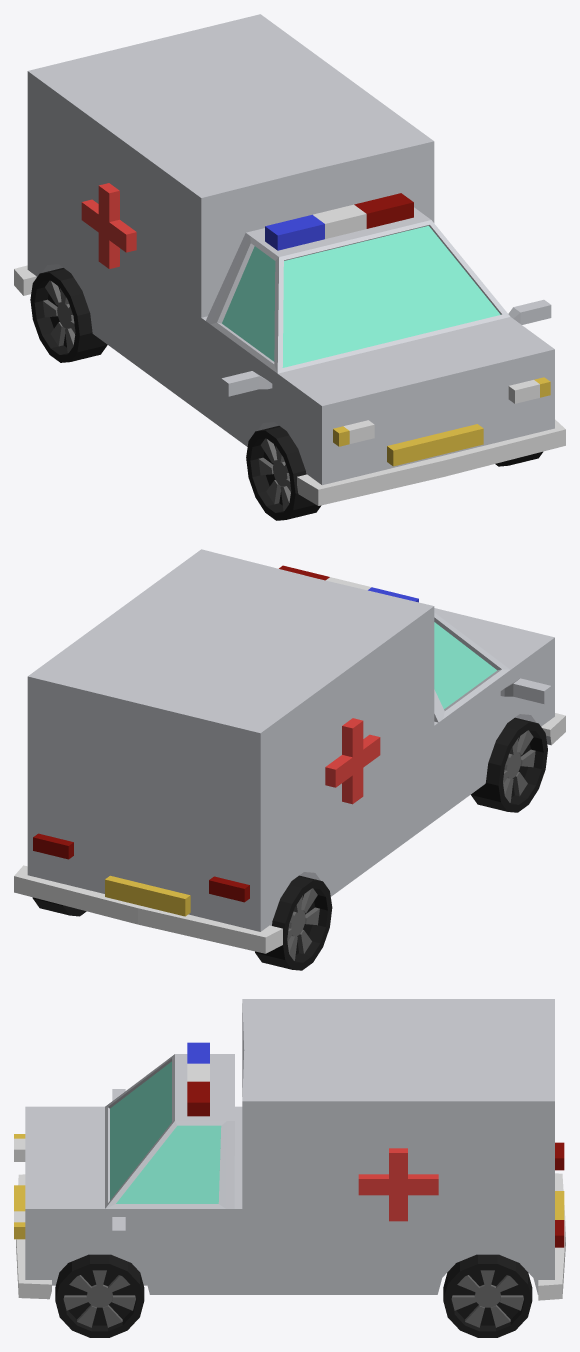
Rendered from Ambulance.fbx.
3 renders of one model, top to bottom at view 1: azimuth 30°, elevation 25°; view 2: azimuth 150°, elevation 25°; view 3: azimuth 270°, elevation 25°, orthographic. The views are drawn at different scales.
Parts seen in each view (by area): view 1: CarBase.006; view 2: CarBase.006; view 3: CarBase.006.
Part boxes in pixels (left/top/right/bottom): CarBase.006: left=14, top=14, right=565, bottom=520; CarBase.006: left=14, top=549, right=565, bottom=970; CarBase.006: left=14, top=999, right=565, bottom=1337.
Size of the model in its own units: 199 by 327 by 152.
